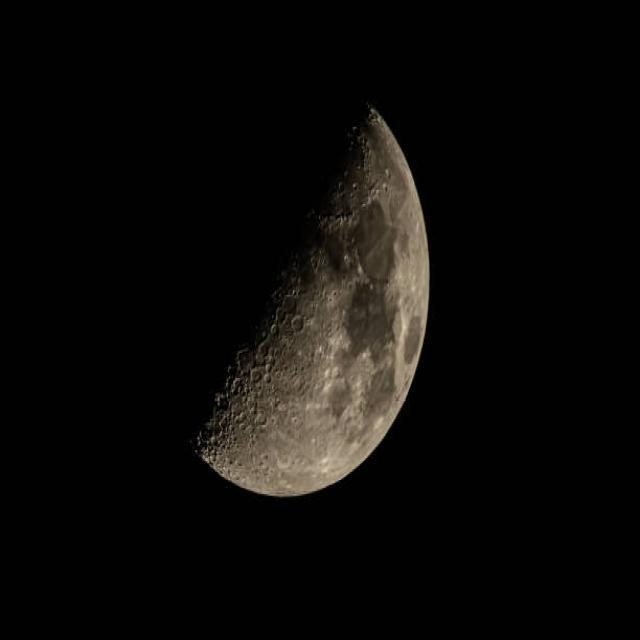moon: (106, 84, 437, 502)
